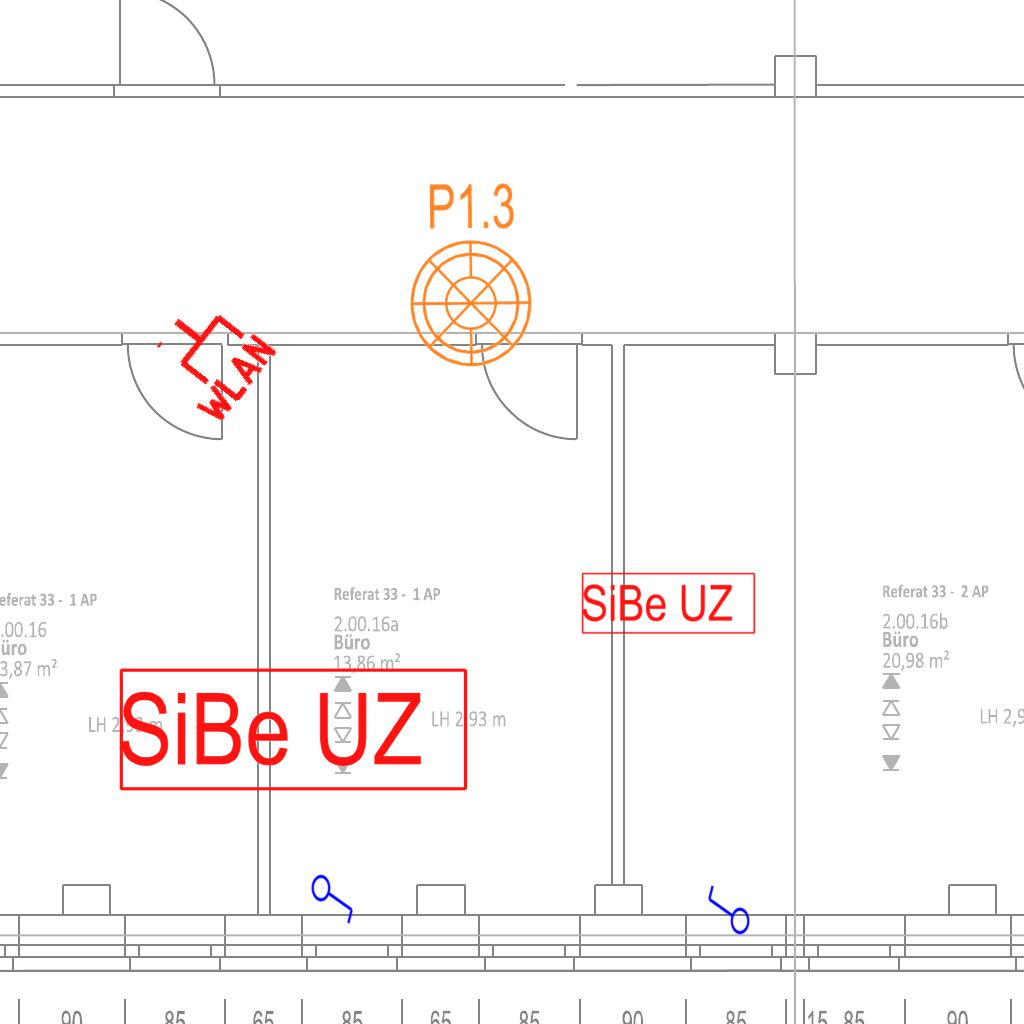Aufbaurundleuchte_LED_Treppenhaus: (407, 165, 546, 370)
Ausschalter: (703, 884, 751, 940), (310, 869, 358, 925)
WLAN: (135, 284, 282, 432)
Zentrale_Sicherheitsbeleuchtung: (116, 665, 473, 795), (580, 571, 758, 636)
